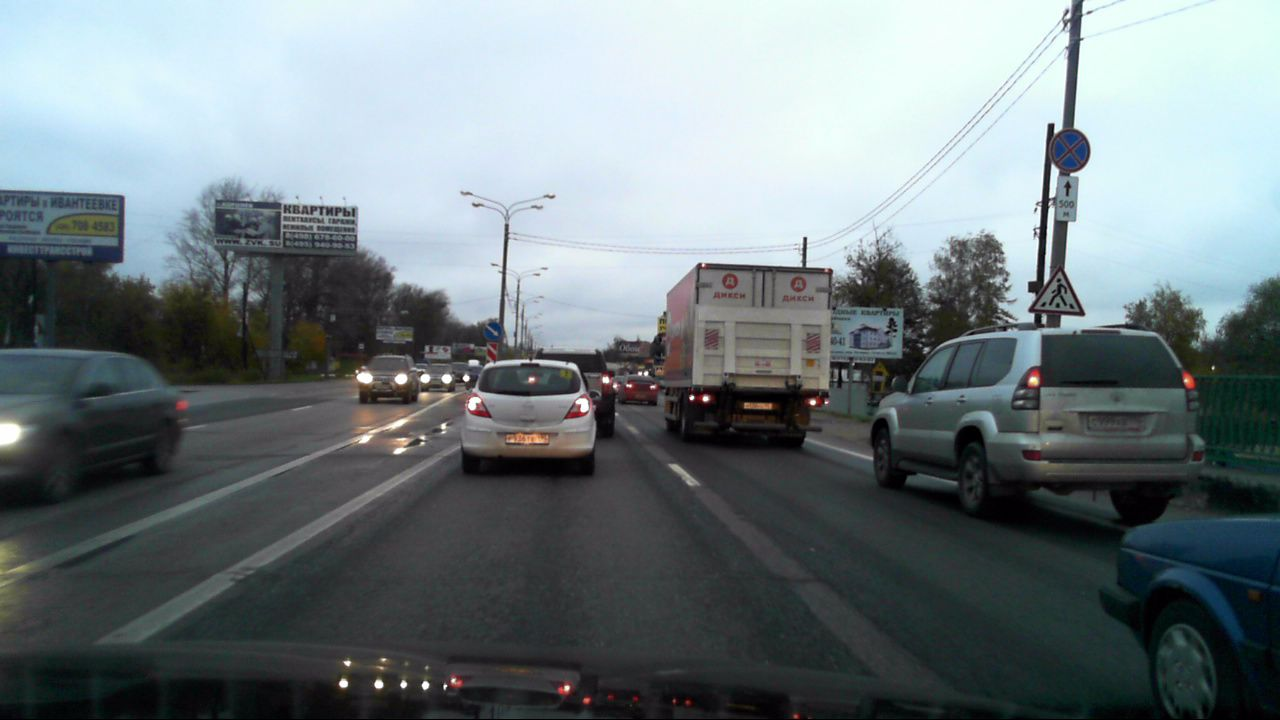No Parking: (1049, 129, 1090, 172)
